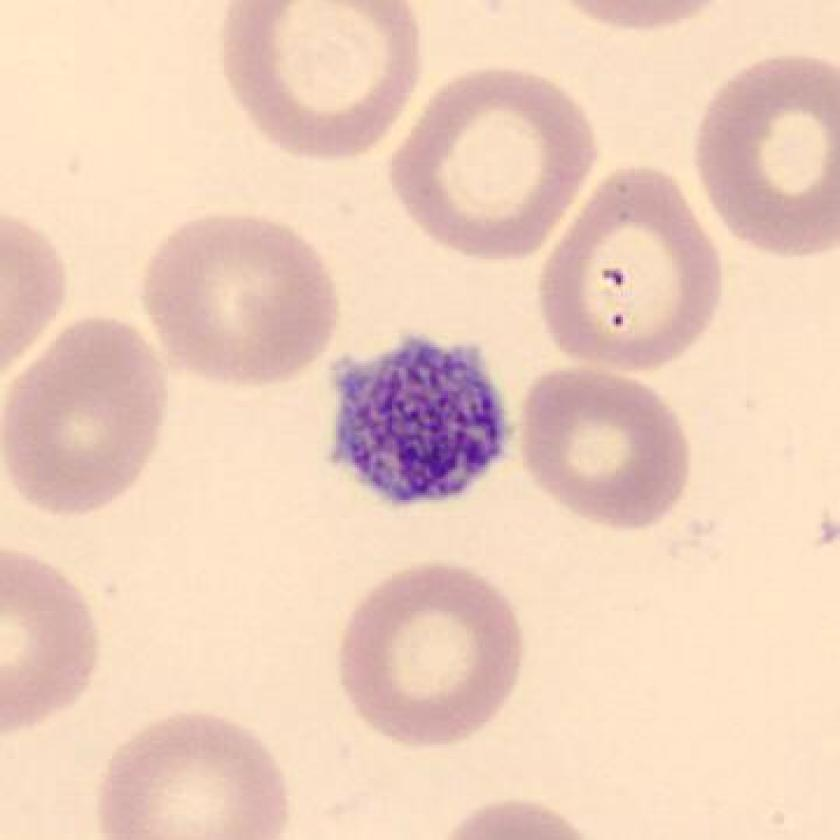platelets: (321, 320, 524, 517)
